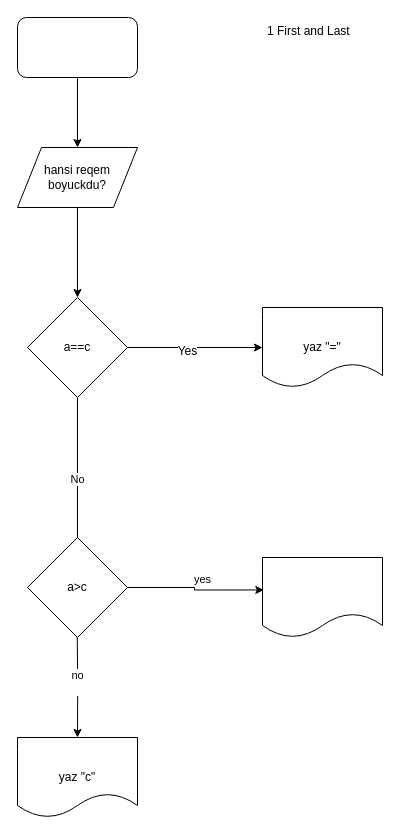
This 400x835 diagram has some shape labels left out. Here are the shapes that lost their labels. From the top down, the box of each, then its label:
(16, 16, 138, 78): basla
(262, 556, 382, 638): yaz "a"
